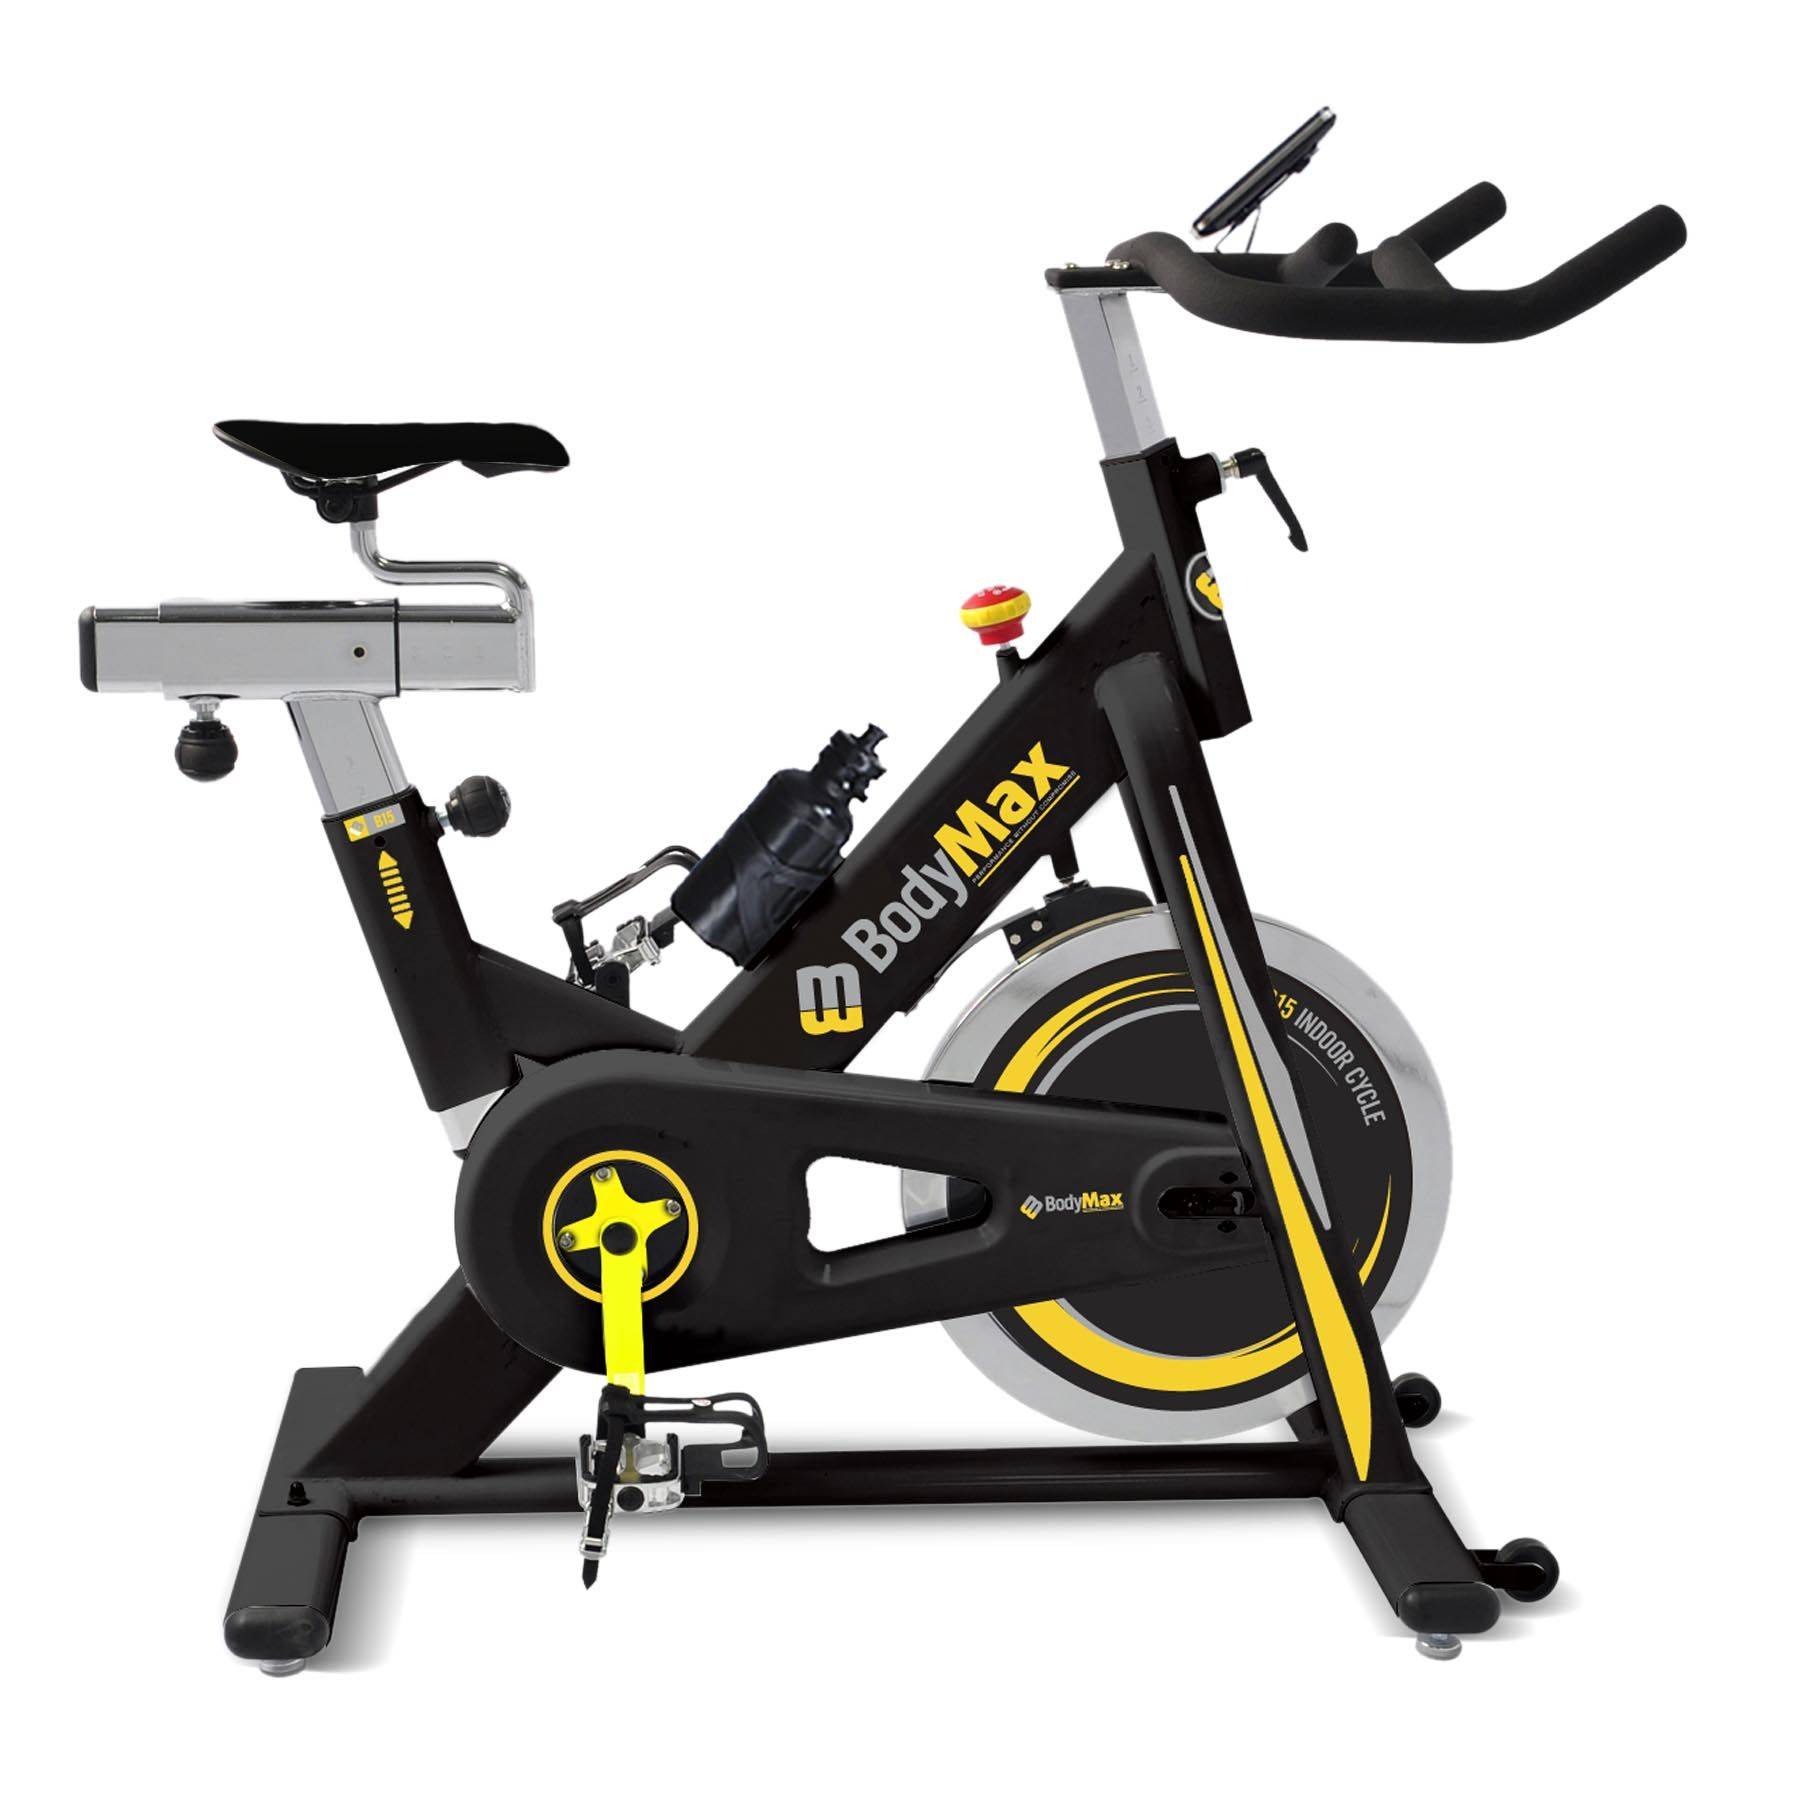gym_bike: (74, 99, 1690, 1714)
